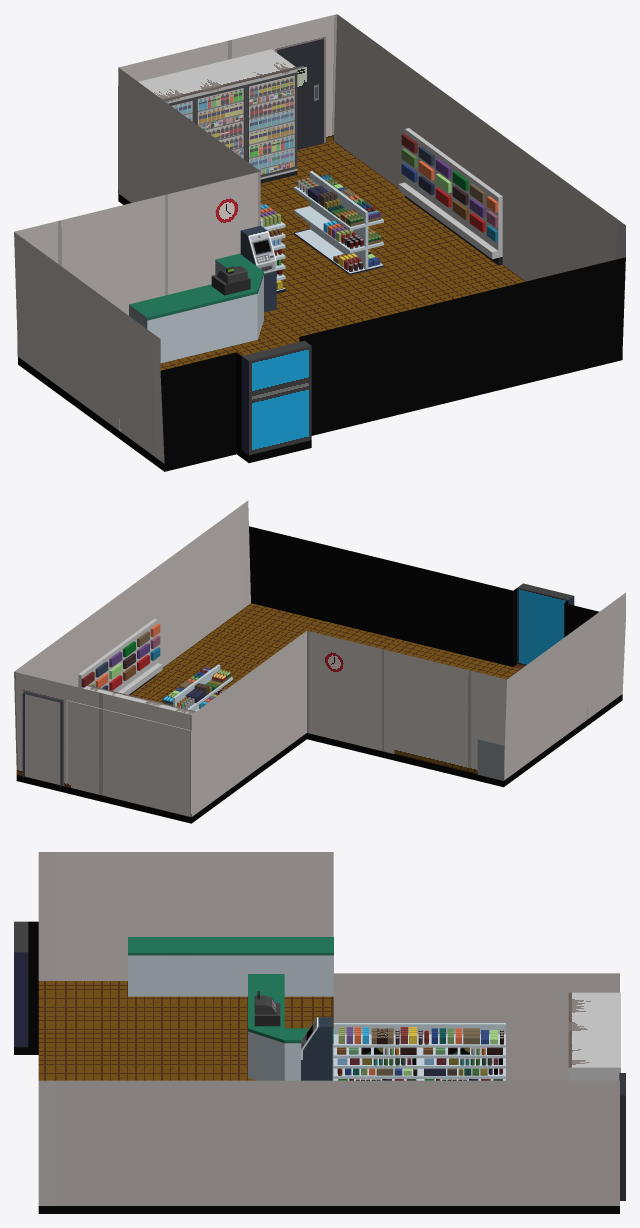
File: gasStation.glb
3 renders of one model, top to bottom at view 1: azimuth 30°, elevation 25°; view 2: azimuth 150°, elevation 25°; view 3: azimuth 270°, elevation 25°, orthographic. The views are drawn at different scales.
Parts seen in each view (by area): view 1: building.001, cooler, desk, wallAisle, centerAisle, door, atm, Ltop, register2, leftItems, Lmid; view 2: building.001, wallAisle, counter, cooler, Ltop, centerAisle, door; view 3: building.001, counter, leftItems, leftShelf, cooler, desk, atm, register2, door.
Boxes of the visible parts, x1=… form: building.001: x1=14, y1=14, x2=625, y2=471; cooler: x1=118, y1=49, x2=297, y2=192; desk: x1=129, y1=253, x2=263, y2=363; wallAisle: x1=398, y1=128, x2=502, y2=265; centerAisle: x1=294, y1=171, x2=383, y2=274; door: x1=277, y1=39, x2=323, y2=149; atm: x1=240, y1=225, x2=276, y2=312; Ltop: x1=297, y1=178, x2=363, y2=226; register2: x1=211, y1=266, x2=250, y2=295; leftItems: x1=260, y1=202, x2=283, y2=289; Lmid: x1=323, y1=220, x2=363, y2=249; building.001: x1=14, y1=500, x2=625, y2=823; wallAisle: x1=78, y1=619, x2=162, y2=695; counter: x1=477, y1=708, x2=587, y2=780; cooler: x1=66, y1=685, x2=195, y2=817; Ltop: x1=177, y1=669, x2=230, y2=709; centerAisle: x1=173, y1=664, x2=232, y2=711; door: x1=22, y1=692, x2=62, y2=787; building.001: x1=14, y1=852, x2=619, y2=1213; counter: x1=128, y1=937, x2=333, y2=996; leftItems: x1=337, y1=1027, x2=503, y2=1080; leftShelf: x1=333, y1=1023, x2=505, y2=1080; cooler: x1=568, y1=992, x2=620, y2=1080; desk: x1=248, y1=974, x2=333, y2=1080; atm: x1=301, y1=1017, x2=332, y2=1080; register2: x1=254, y1=991, x2=280, y2=1026; door: x1=619, y1=1073, x2=625, y2=1200.
Size of the model in its own units: 9.41 by 2.59 by 10.64.
Materials: 11 (11 with a texture image).
